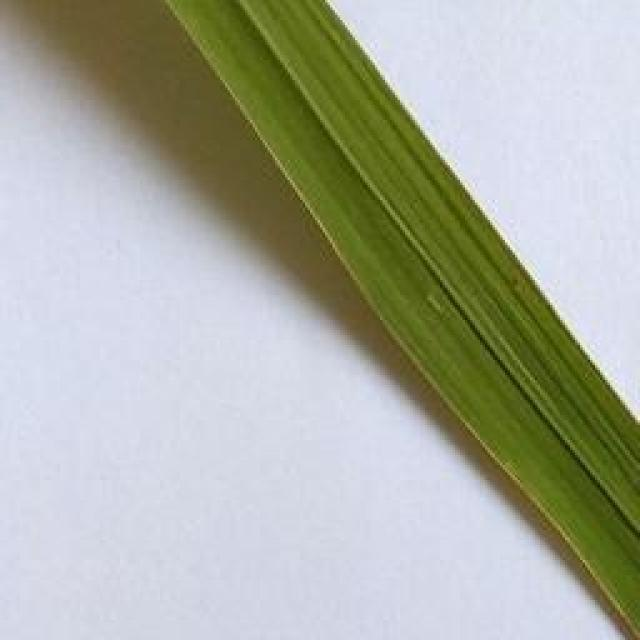Healthy-Plant: (162, 0, 640, 640)
